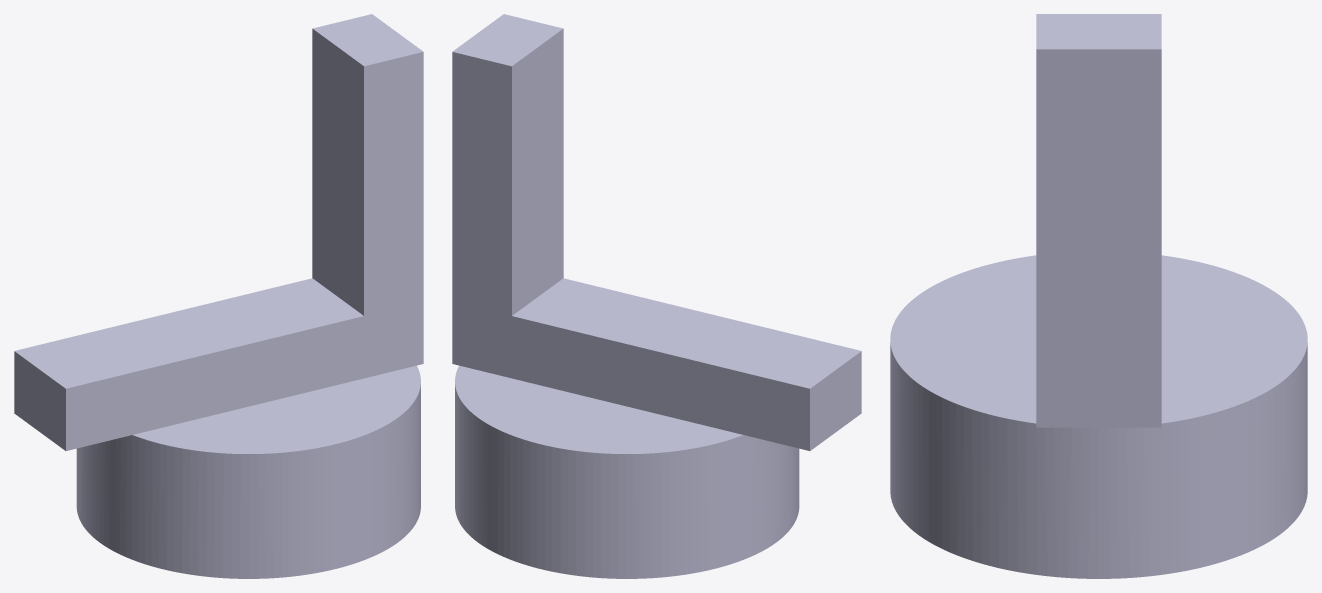
Rendered from Unnamed_base_link_body.dae.
3 renders of one model, left to right at view 1: azimuth 30°, elevation 25°; view 2: azimuth 150°, elevation 25°; view 3: azimuth 270°, elevation 25°, orthographic. The views are drawn at different scales.
Visible parts, largest first — view 1: node0; view 2: node0; view 3: node0.
Boxes of the visible parts, box(x1,y1,x2,y2) form: node0: box(14, 14, 423, 578); node0: box(452, 14, 861, 578); node0: box(890, 14, 1307, 578).
Size of the model in its own units: 0.12 by 0.1 by 0.14.
